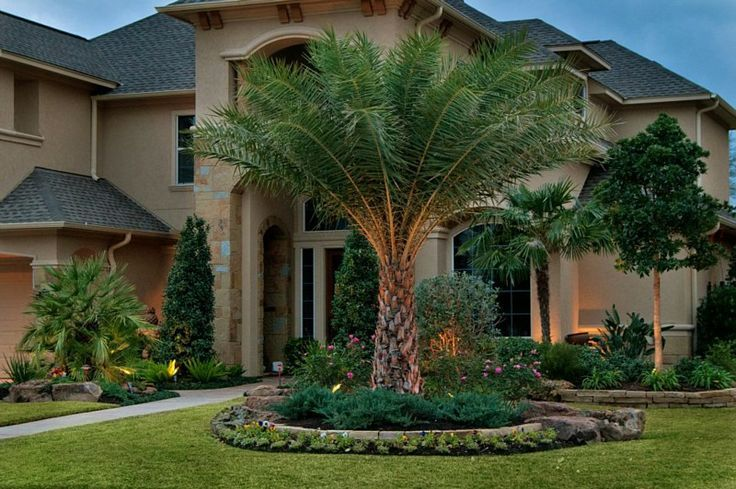tree: (191, 36, 587, 389), (570, 124, 718, 370), (458, 178, 597, 364)
